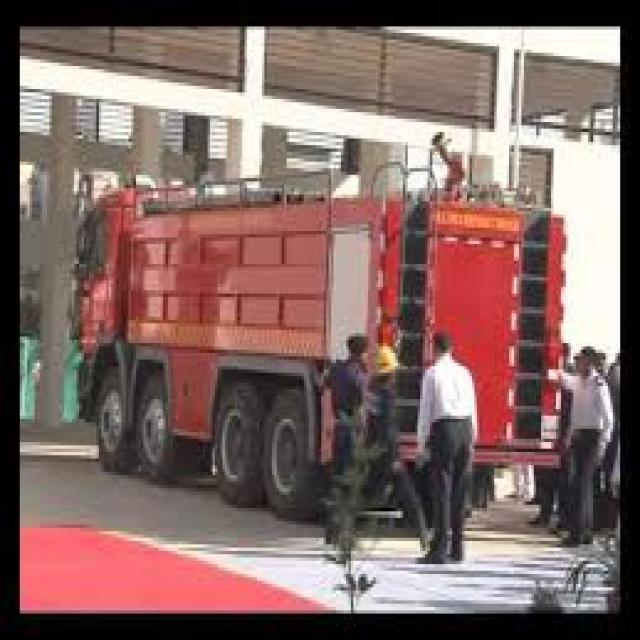Fire_brigade: (49, 152, 578, 511)
